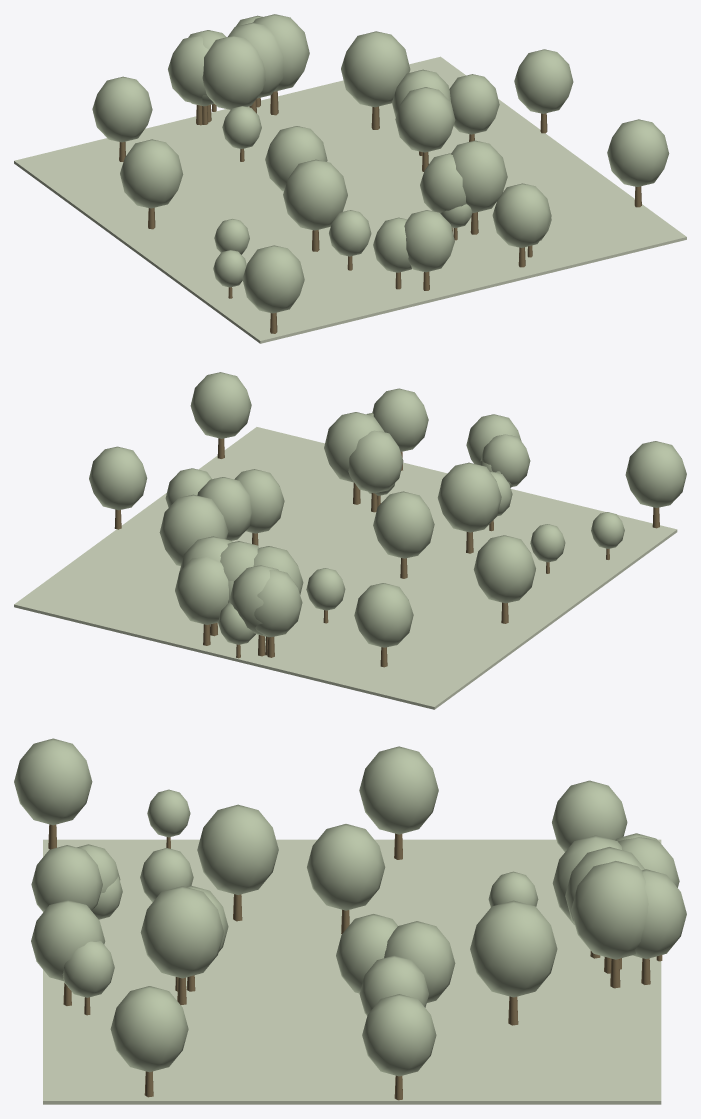
The picture shows the model from 3 angles, top to bottom: view 1: azimuth 30°, elevation 25°; view 2: azimuth 150°, elevation 25°; view 3: azimuth 270°, elevation 25°; orthographic projection. The views are drawn at different scales.
Visible parts, largest first — view 1: terrain, lod-near-5, lod-near-8, lod-near-25, lod-near-9, lod-near-30, lod-near-28, lod-near-7, lod-near-22, lod-near-19, lod-near-14, lod-near-13 (+13 smaller); view 2: terrain, lod-near-25, lod-near-9, lod-near-2, lod-near-30, lod-near-28, lod-near-7, lod-near-5, lod-near-3, lod-near-19, lod-near-20, lod-near-14 (+15 smaller); view 3: terrain, lod-near-5, lod-near-16, lod-near-13, lod-near-25, lod-near-9, lod-near-2, lod-near-30, lod-near-28, lod-near-19, lod-near-7, lod-near-14 (+14 smaller).
Boxes of the visible parts, <box> form: terrain: <box>14,56,686,343</box>; lod-near-5: <box>341,31,410,107</box>; lod-near-8: <box>202,36,265,109</box>; lod-near-25: <box>283,159,347,230</box>; lod-near-9: <box>120,139,183,208</box>; lod-near-30: <box>242,245,304,313</box>; lod-near-28: <box>607,119,669,186</box>; lod-near-7: <box>92,76,152,142</box>; lod-near-22: <box>395,87,455,152</box>; lod-near-19: <box>514,49,573,113</box>; lod-near-14: <box>492,183,551,247</box>; lod-near-13: <box>451,140,507,212</box>; terrain: <box>14,427,677,709</box>; lod-near-25: <box>437,462,501,532</box>; lod-near-9: <box>473,535,535,603</box>; lod-near-2: <box>373,491,434,558</box>; lod-near-30: <box>625,441,686,507</box>; lod-near-28: <box>190,372,251,438</box>; lod-near-7: <box>354,583,413,647</box>; lod-near-5: <box>159,494,228,565</box>; lod-near-3: <box>175,557,228,624</box>; lod-near-19: <box>89,446,147,510</box>; lod-near-20: <box>348,430,403,493</box>; lod-near-14: <box>372,388,428,451</box>; terrain: <box>43,839,661,1104</box>; lod-near-5: <box>470,900,557,997</box>; lod-near-16: <box>571,861,648,959</box>; lod-near-13: <box>140,886,223,978</box>; lod-near-25: <box>197,804,278,894</box>; lod-near-9: <box>359,746,438,834</box>; lod-near-2: <box>307,824,385,910</box>; lod-near-30: <box>14,738,92,825</box>; lod-near-28: <box>110,986,188,1072</box>; lod-near-19: <box>362,994,436,1076</box>; lod-near-7: <box>552,780,627,851</box>; lod-near-14: <box>31,900,105,981</box>.
Bounding box in the file's own units: 34.56 × 7.31 × 34.82.
